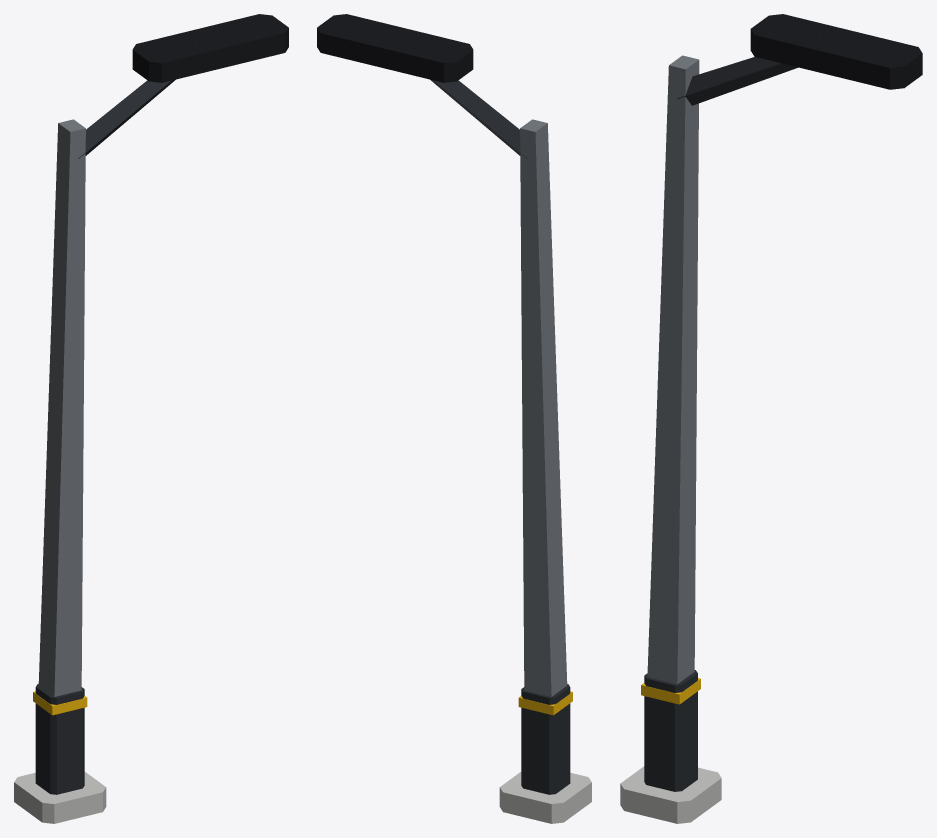
Rendered from PROP_STREETLIGHT_01.glb.
The picture shows the model from 3 angles, left to right: view 1: azimuth 30°, elevation 25°; view 2: azimuth 150°, elevation 25°; view 3: azimuth 330°, elevation 25°; orthographic projection. The views are drawn at different scales.
Visible parts, largest first — view 1: CIVRUM_GAME_PROP_STREETLIGHT_01; view 2: CIVRUM_GAME_PROP_STREETLIGHT_01; view 3: CIVRUM_GAME_PROP_STREETLIGHT_01.
Part boxes in pixels (left/top/right/bottom): CIVRUM_GAME_PROP_STREETLIGHT_01: left=14, top=14, right=288, bottom=823; CIVRUM_GAME_PROP_STREETLIGHT_01: left=317, top=14, right=591, bottom=823; CIVRUM_GAME_PROP_STREETLIGHT_01: left=620, top=14, right=922, bottom=823.
Bounding box in the file's own units: 2.13 × 5.89 × 0.54.
